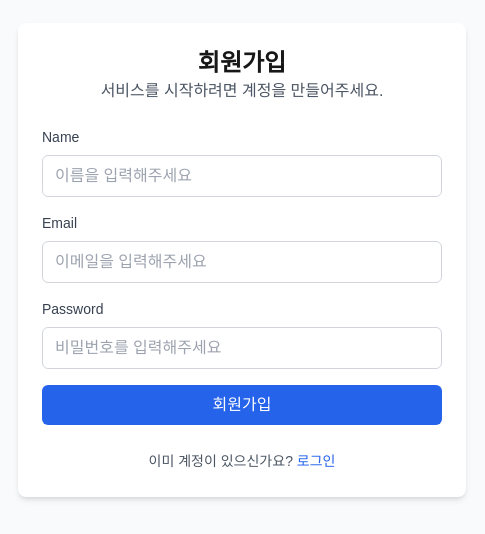
회원 가입 › 비밀번호 길이를 검증해야 합니다
Step 1. Type "Test User" into the field with test id "name-input" → (242, 176), box [42,155,442,197]
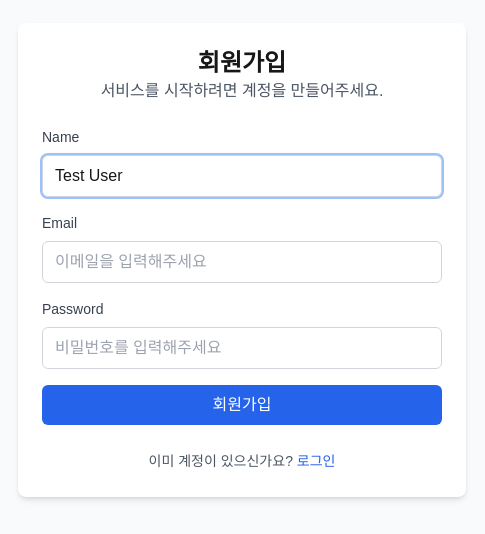
Step 2. Type "test@example.com" into the field with test id "email-input" → (242, 262), box [42,241,442,283]
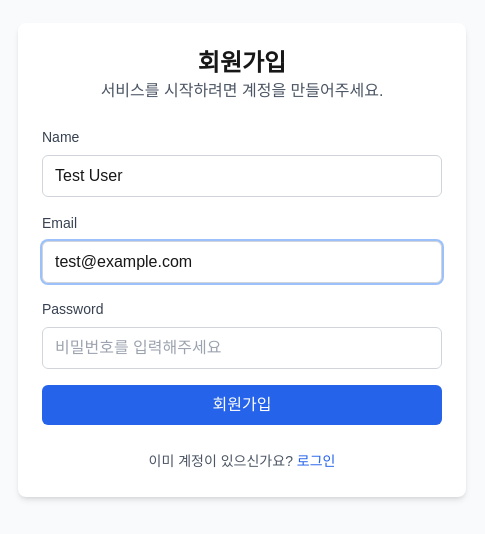
Step 3. Type "123" into the password field with test id "password-input" → (242, 348), box [42,327,442,369]
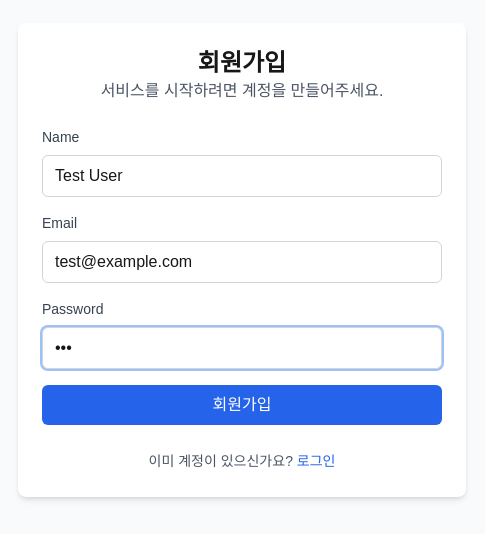
Step 4. Click the button with test id "submit" → (242, 405), box [42,385,442,425]
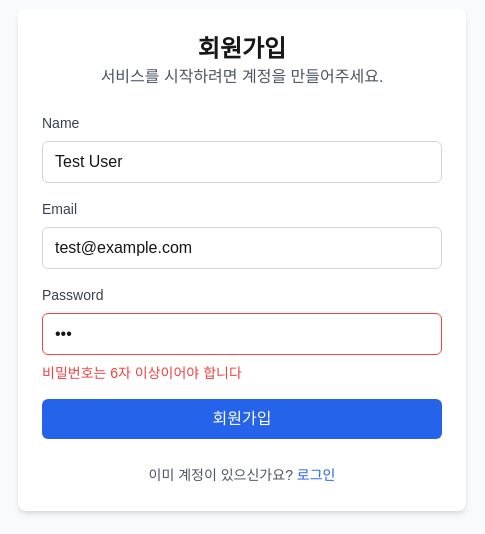
Result: the text with test id "password-error" reads "비밀번호는 6자 이상이어야 합니다" at [42,365,242,381]
